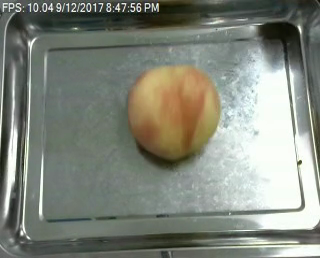Peach: (127, 64, 221, 160)
